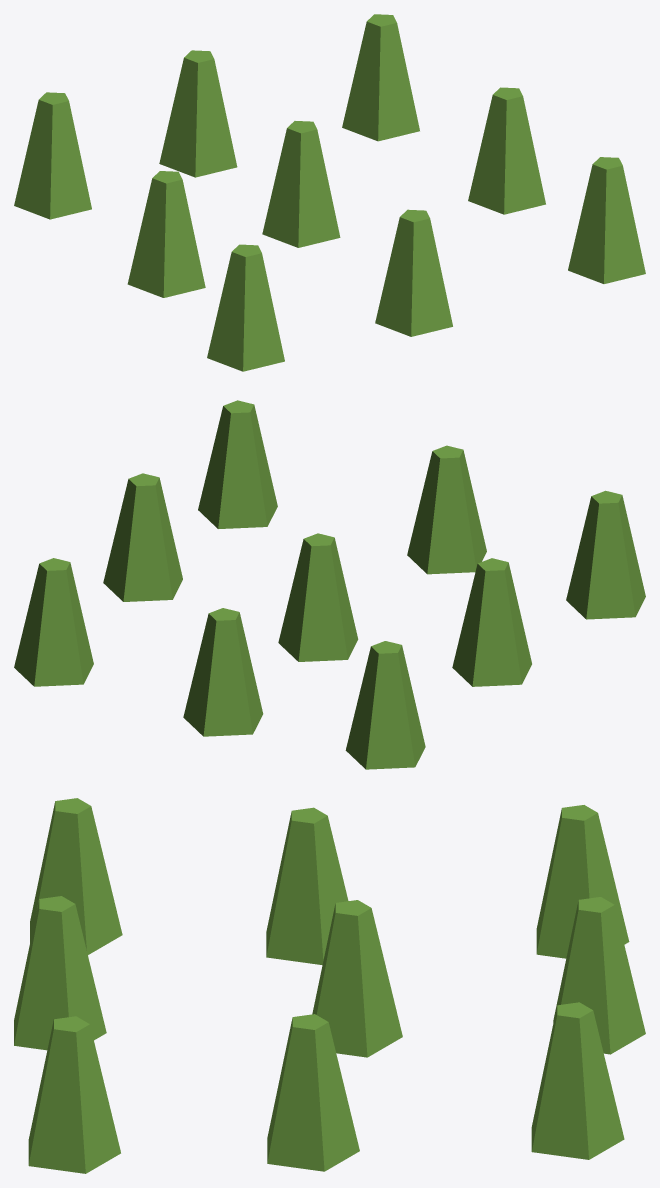
The model's file is crop_wheat_young.glb.
The picture shows the model from 3 angles, top to bottom: view 1: azimuth 30°, elevation 25°; view 2: azimuth 150°, elevation 25°; view 3: azimuth 270°, elevation 25°; orthographic projection. The views are drawn at different scales.
Visible parts, largest first — view 1: crop_wheat_young; view 2: crop_wheat_young; view 3: crop_wheat_young.
Boxes of the visible parts, box(x1,y1,x2,y2) form: crop_wheat_young: box(14, 14, 645, 371); crop_wheat_young: box(14, 400, 645, 769); crop_wheat_young: box(14, 798, 645, 1173).
Bounding box in the file's own units: 1.08 × 0.25 × 1.11.
